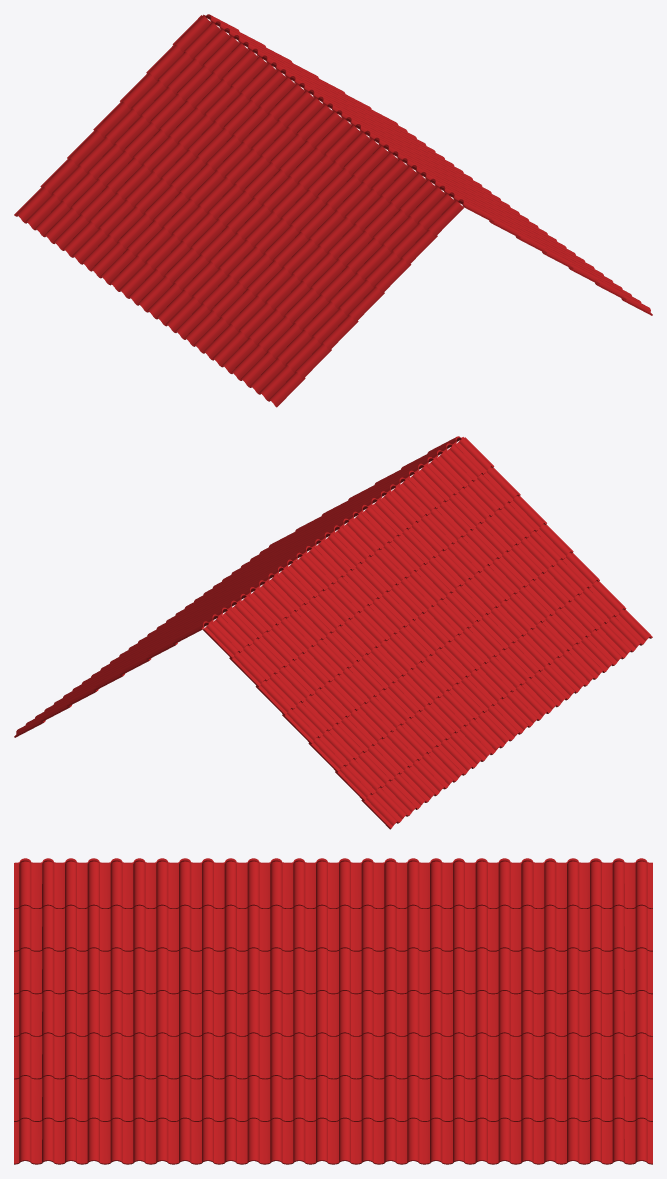
File: adamante2.glb
3 views of the same model, one above another, from view 1: azimuth 30°, elevation 25°; view 2: azimuth 150°, elevation 25°; view 3: azimuth 270°, elevation 25° (orthographic). The views are drawn at different scales.
Visible parts, largest first — view 1: ADAMANTE EV2.small; view 2: ADAMANTE EV2.small; view 3: ADAMANTE EV2.small.
Part boxes in pixels (x1,y1,x2,y2): ADAMANTE EV2.small: (14, 14, 652, 407); ADAMANTE EV2.small: (14, 436, 652, 829); ADAMANTE EV2.small: (14, 858, 652, 1164).
Bounding box in the file's own units: 16.1 × 6.41 × 19.25.
